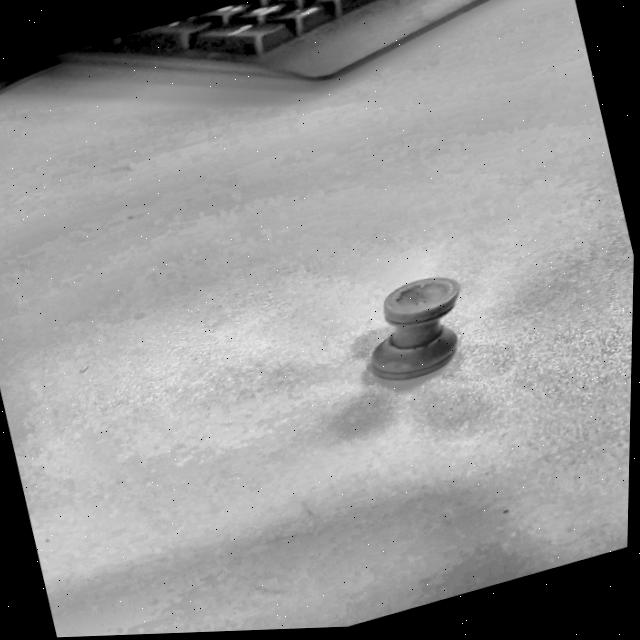white-rook: (369, 276, 459, 379)
